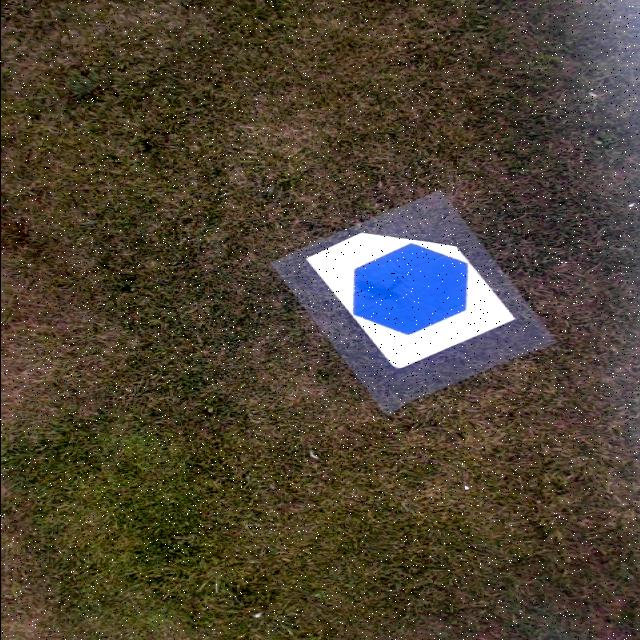blue_hexagon: (352, 244, 467, 336)
